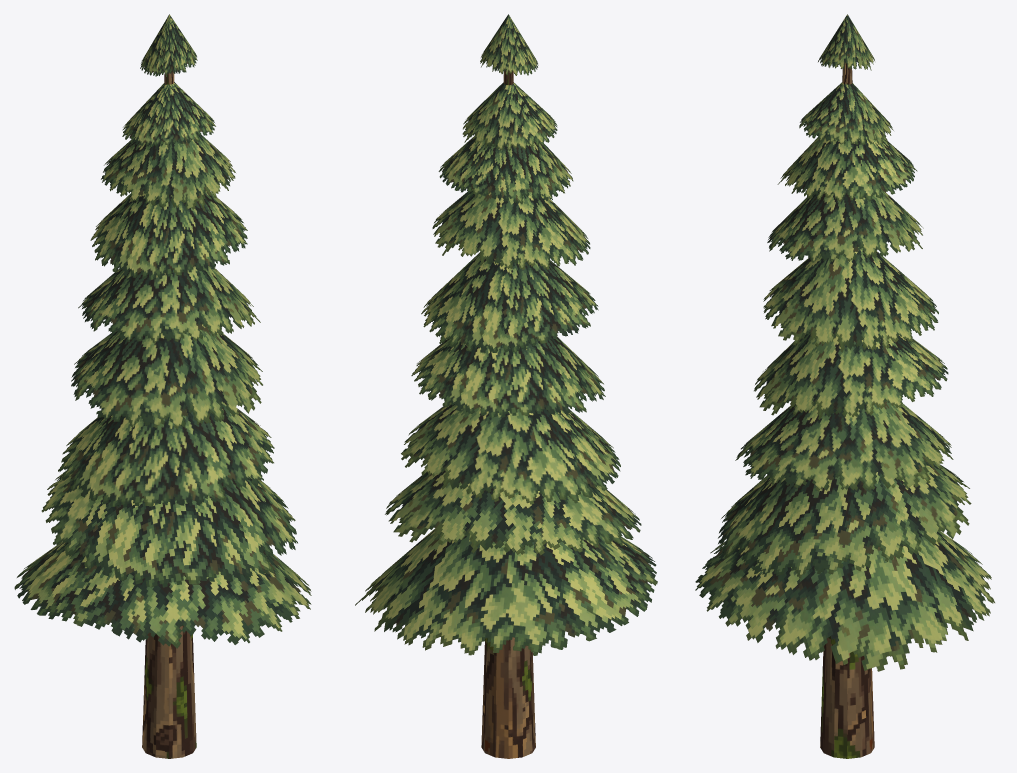
Rendered from arvore-16.glb.
3 renders of one model, left to right at view 1: azimuth 30°, elevation 25°; view 2: azimuth 150°, elevation 25°; view 3: azimuth 270°, elevation 25°, orthographic.
Parts seen in each view (by area): view 1: Arvore; view 2: Arvore; view 3: Arvore.
Boxes of the visible parts, x1,y1,x2,y2 form: Arvore: [14, 14, 311, 758]; Arvore: [355, 14, 657, 758]; Arvore: [695, 14, 994, 758].
Size of the model in its own units: 5.12 by 13.35 by 5.12.
2 materials, 2 textured.
